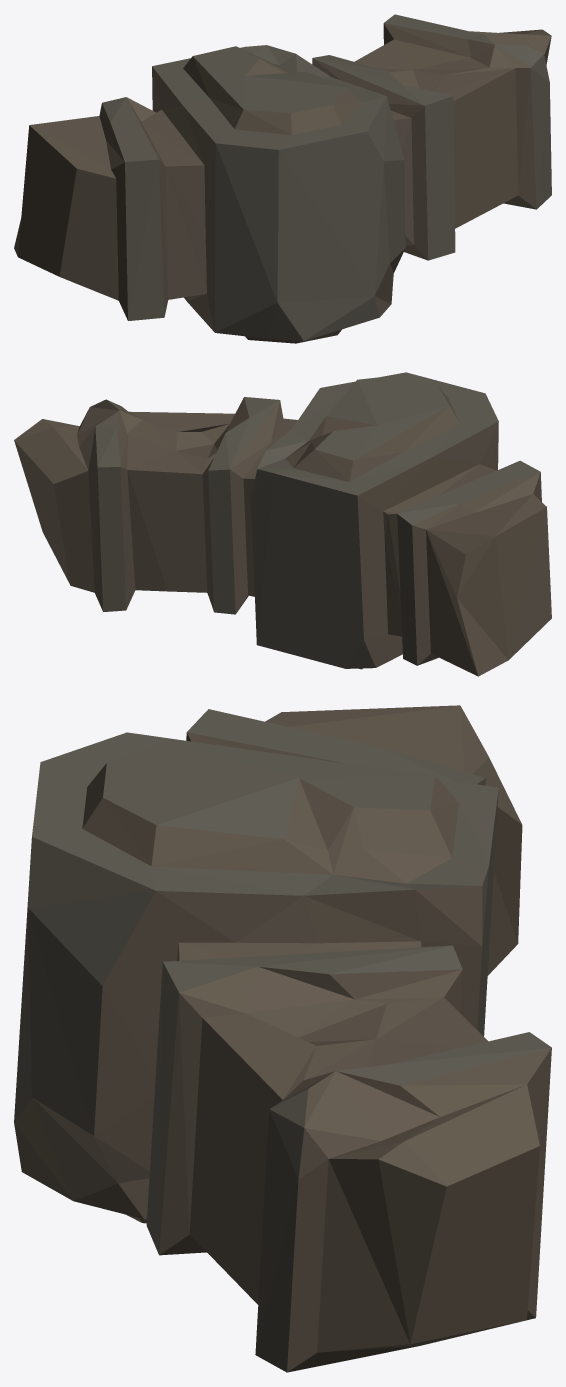
File: synty-prop-pillar-arch-broken-02.gltf
3 views of the same model, one above another, from view 1: azimuth 30°, elevation 25°; view 2: azimuth 150°, elevation 25°; view 3: azimuth 270°, elevation 25° (orthographic). The views are drawn at different scales.
Parts seen in each view (by area): view 1: SM_Prop_Pillar_Arch_Broken_02; view 2: SM_Prop_Pillar_Arch_Broken_02; view 3: SM_Prop_Pillar_Arch_Broken_02.
Part boxes in pixels (bbox=[...]): SM_Prop_Pillar_Arch_Broken_02: bbox=[14, 14, 551, 343]; SM_Prop_Pillar_Arch_Broken_02: bbox=[14, 372, 551, 676]; SM_Prop_Pillar_Arch_Broken_02: bbox=[14, 705, 551, 1372].
Size of the model in its own units: 1.41 by 0.6014 by 0.7139.
1 material, 1 textured.
